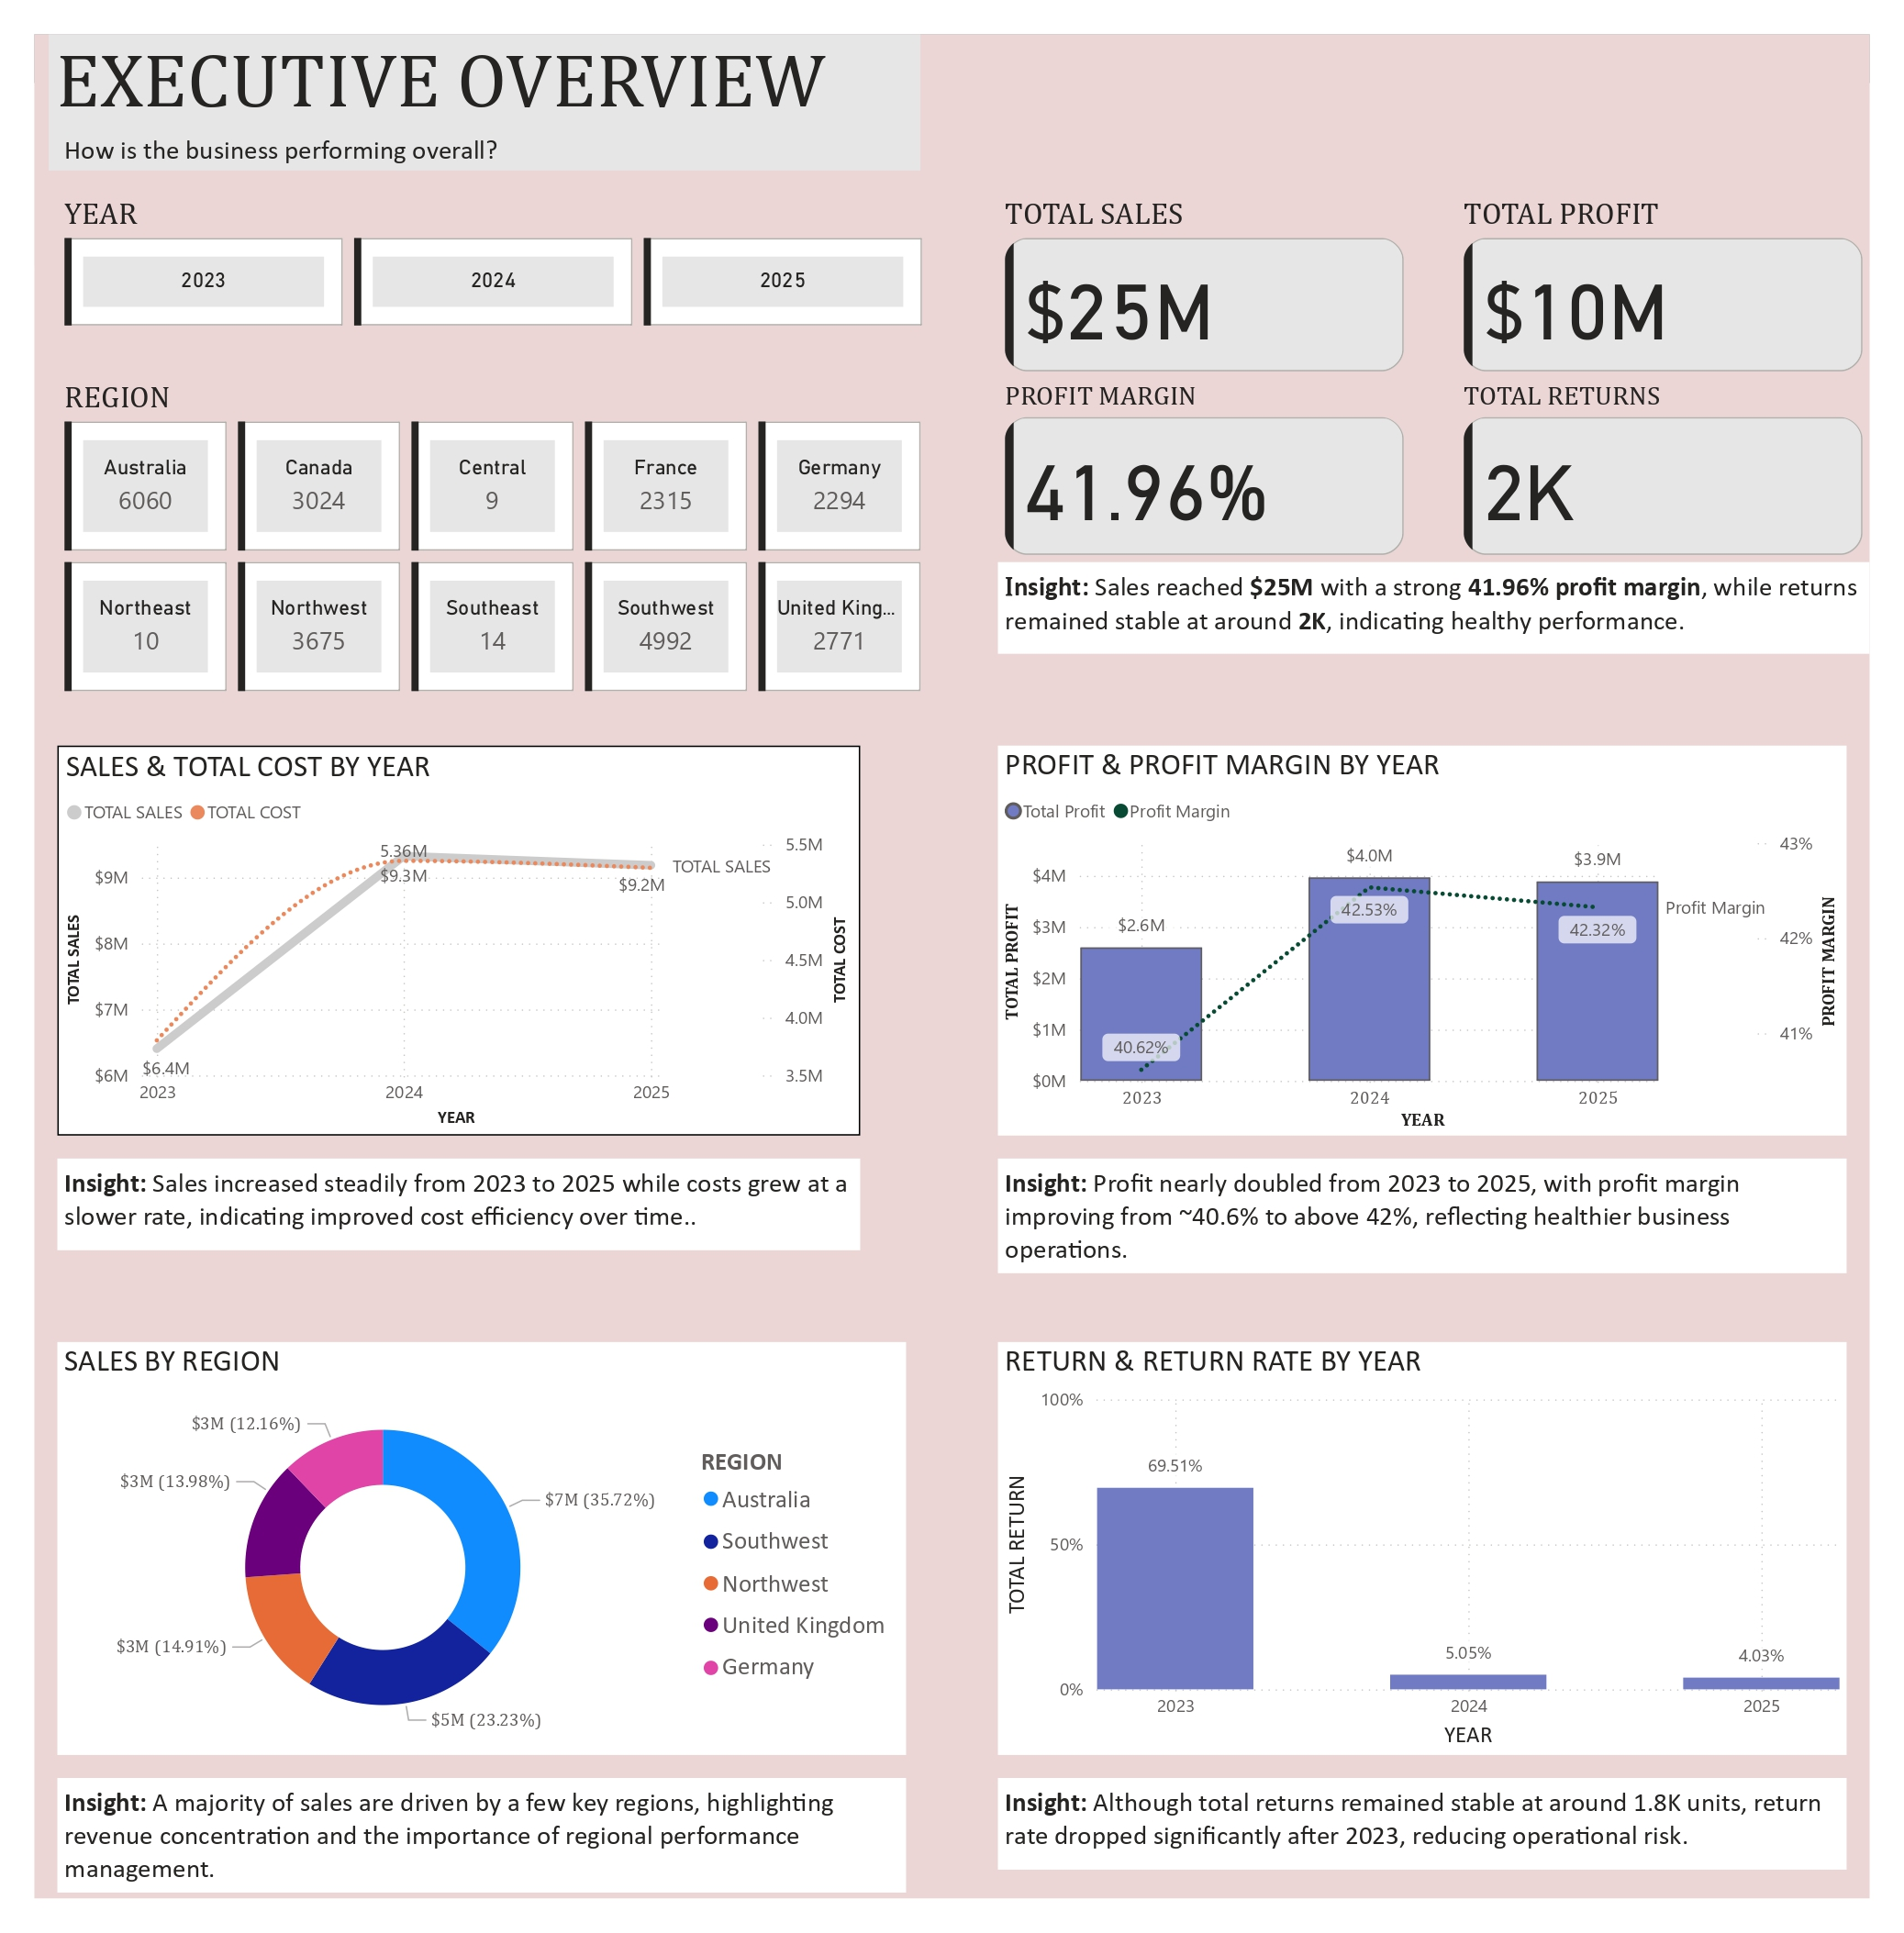

This screenshot's page, from the dashboard's own definition file:
{"tool":"powerbi","page":{"name":"Executive Overview","canvas":[1280,1300],"ordinal":0},"visuals":[{"type":"textbox","box":[10.2,0,608,95.1],"z":0},{"type":"cardVisual","title":"TOTAL SALES","fields":{"Data":["ALL MEASURES.TOTAL SALES"]},"box":[672,112,288,128],"z":1000},{"type":"cardVisual","title":"TOTAL PROFIT","fields":{"Data":["ALL MEASURES.Total Profit"]},"box":[992,112,288,128],"z":2000},{"type":"cardVisual","title":"PROFIT MARGIN","fields":{"Data":["ALL MEASURES.Profit Margin"]},"box":[672,240,288,128],"z":3000},{"type":"cardVisual","title":"TOTAL RETURNS","fields":{"Data":["ALL MEASURES.Total Return"]},"box":[992,240,288,128],"z":4000},{"type":"advancedSlicerVisual","title":"YEAR","fields":{"Values":["Calendar Lookup (1) csv.Date.Variation.Date Hierarchy.Year"]},"box":[16,112,608,96],"z":5000},{"type":"advancedSlicerVisual","title":"REGION","fields":{"Values":["Territory Lookup (1) csv.Region"]},"box":[16,240,608,224],"z":6000},{"type":"lineChart","title":"SALES & TOTAL COST BY YEAR","fields":{"Category":["Calendar Lookup (1) csv.Date.Variation.Date Hierarchy.Year"],"Y":["ALL MEASURES.TOTAL SALES"],"Y2":["ALL MEASURES.TOTAL COST"]},"box":[16,496,560,272],"z":7000},{"type":"lineClusteredColumnComboChart","title":"PROFIT & PROFIT MARGIN BY YEAR","fields":{"Category":["Calendar Lookup (1) csv.Date.Variation.Date Hierarchy.Year"],"Y":["ALL MEASURES.Total Profit"],"Y2":["ALL MEASURES.Profit Margin"]},"box":[672,496,592,272],"z":8000},{"type":"lineClusteredColumnComboChart","title":"RETURN & RETURN RATE BY YEAR","fields":{"Category":["Calendar Lookup (1) csv.Date.Variation.Date Hierarchy.Year"],"Y":["ALL MEASURES.Return Rate"]},"box":[672,912,592,288],"z":9000},{"type":"donutChart","title":"SALES BY REGION","fields":{"Category":["Territory Lookup (1) csv.Region"],"Y":["ALL MEASURES.TOTAL SALES"]},"box":[16,912,592,288],"z":10000},{"type":"textbox","box":[16,64,608,80],"z":11000},{"type":"textbox","box":[672,368,608,64],"z":12000},{"type":"textbox","box":[16,784,560,64],"z":13000},{"type":"textbox","box":[672,784,592,80],"z":14000},{"type":"textbox","box":[16,1216,592,80],"z":15000},{"type":"textbox","box":[672,1216,592,64],"z":16000}]}

Visuals, with their boxes in screenshot pixels (x1, y1, x2, y2), scaled from the page's 1280x1300 canvas onto the 1904x1933 screenshot:
textbox: x1=16 y1=0 x2=919 y2=141
"TOTAL SALES" cardVisual: x1=999 y1=167 x2=1428 y2=357
"TOTAL PROFIT" cardVisual: x1=1475 y1=167 x2=1903 y2=357
"PROFIT MARGIN" cardVisual: x1=999 y1=357 x2=1428 y2=547
"TOTAL RETURNS" cardVisual: x1=1475 y1=357 x2=1903 y2=547
"YEAR" advancedSlicerVisual: x1=24 y1=167 x2=929 y2=309
"REGION" advancedSlicerVisual: x1=24 y1=357 x2=929 y2=690
"SALES & TOTAL COST BY YEAR" lineChart: x1=24 y1=738 x2=857 y2=1142
"PROFIT & PROFIT MARGIN BY YEAR" lineClusteredColumnComboChart: x1=999 y1=738 x2=1880 y2=1142
"RETURN & RETURN RATE BY YEAR" lineClusteredColumnComboChart: x1=999 y1=1356 x2=1880 y2=1784
"SALES BY REGION" donutChart: x1=24 y1=1356 x2=905 y2=1784
textbox: x1=24 y1=95 x2=929 y2=214
textbox: x1=999 y1=547 x2=1903 y2=642
textbox: x1=24 y1=1166 x2=857 y2=1261
textbox: x1=999 y1=1166 x2=1880 y2=1284
textbox: x1=24 y1=1808 x2=905 y2=1927
textbox: x1=999 y1=1808 x2=1880 y2=1904
